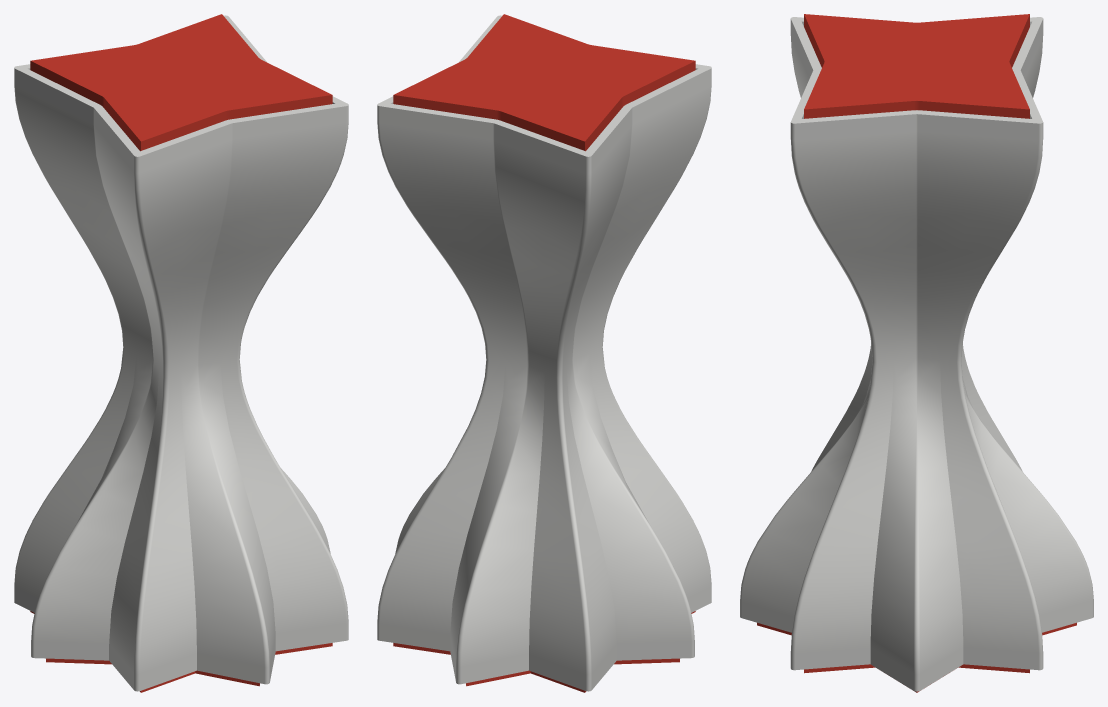
The model's file is HOUR-GLASS-STAR-TANGENT5.fbx.
The picture shows the model from 3 angles, left to right: view 1: azimuth 30°, elevation 25°; view 2: azimuth 150°, elevation 25°; view 3: azimuth 270°, elevation 25°; orthographic projection. The views are drawn at different scales.
Visible parts, largest first — view 1: Body2, Body4, Body3; view 2: Body2, Body4, Body3; view 3: Body2, Body4, Body3.
Part boxes in pixels (x1,y1,x2,y2): Body2: [14, 15, 348, 691]; Body4: [30, 14, 332, 151]; Body3: [30, 611, 332, 692]; Body2: [377, 15, 711, 691]; Body4: [393, 14, 695, 151]; Body3: [393, 611, 695, 692]; Body2: [740, 17, 1093, 691]; Body4: [804, 14, 1029, 118]; Body3: [757, 622, 1076, 692].
Size of the model in its own units: 37.54 by 66 by 37.54.
